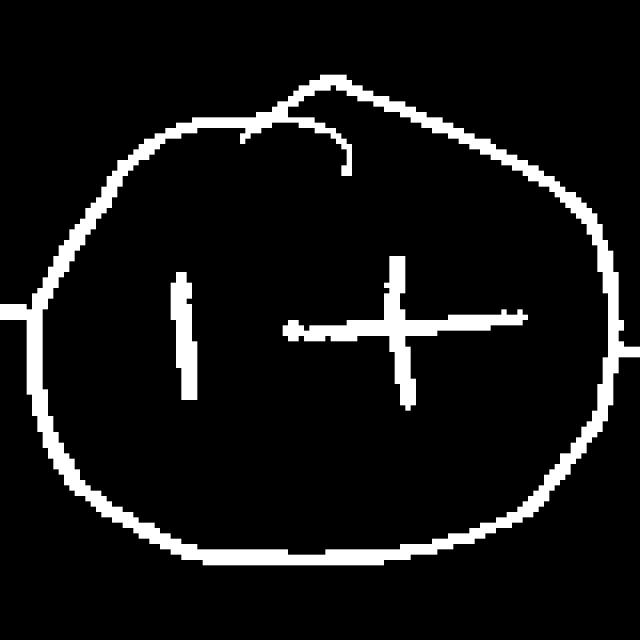voltage_source: (22, 72, 625, 586)
